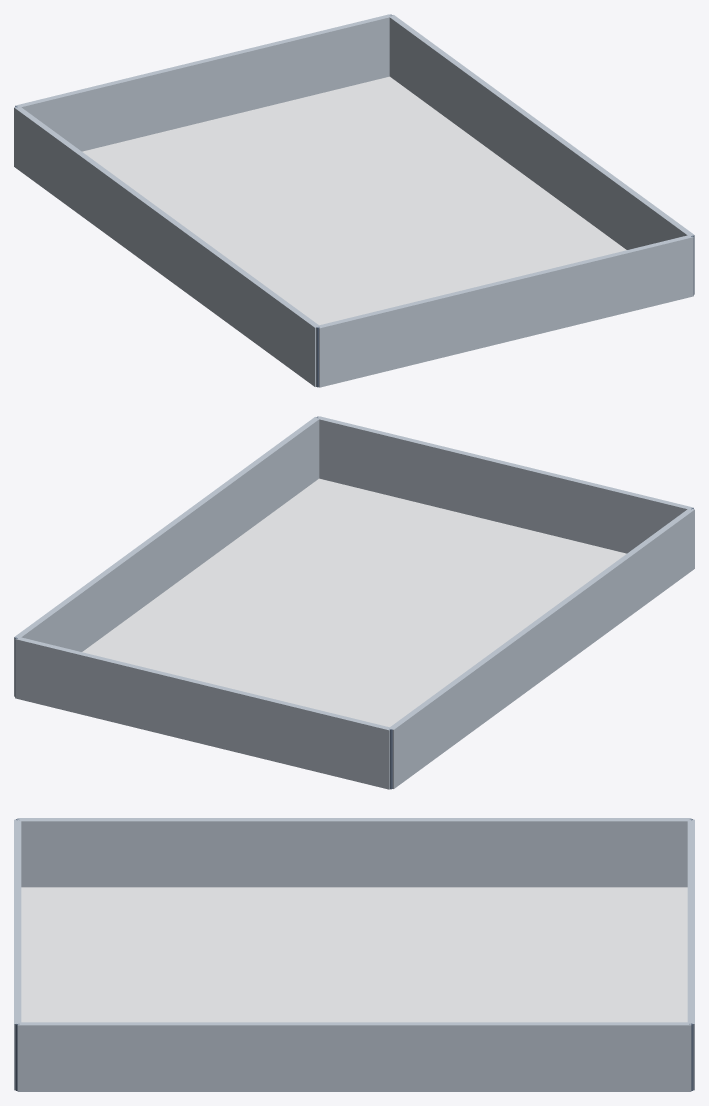
File: 99bfc3c9-f4fd-430b-82a8-7cb7e4ff085d.glb
3 views of the same model, one above another, from view 1: azimuth 30°, elevation 25°; view 2: azimuth 150°, elevation 25°; view 3: azimuth 270°, elevation 25° (orthographic). The views are drawn at different scales.
Visible parts, largest first — view 1: room-content; view 2: room-content; view 3: room-content.
Part boxes in pixels (box(x1,y1,x2,y2)): room-content: box(14, 14, 694, 387); room-content: box(14, 416, 694, 789); room-content: box(14, 818, 694, 1091).
Size of the model in its own units: 33.5 by 5 by 46.5.
